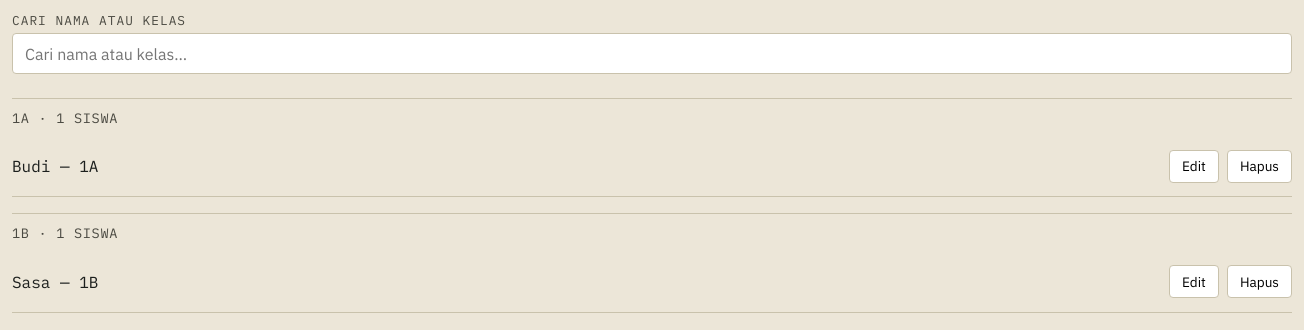
StudentList › requires confirmation before deleting
1A (Budi) group renders first
What coordinates should you click on to do the following:
click the button "Hapus" in the row of "Budi"
I would click on:
 (1259, 166)
Its box is [1227,150,1292,183].
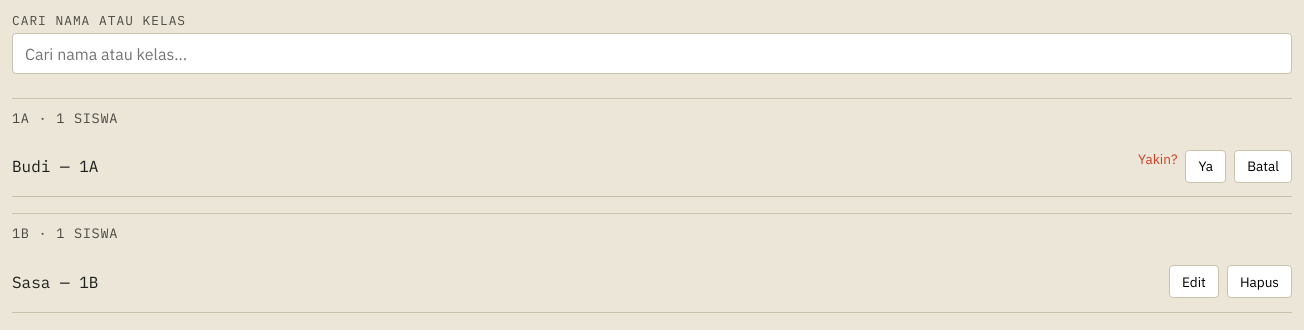
Now the text "Yakin?" is shown, box [1138,150,1178,168]
What coordinates should you click on to do the following:
click the button "Batal"
I would click on:
 (1263, 166)
Its box is [1234,150,1292,183].
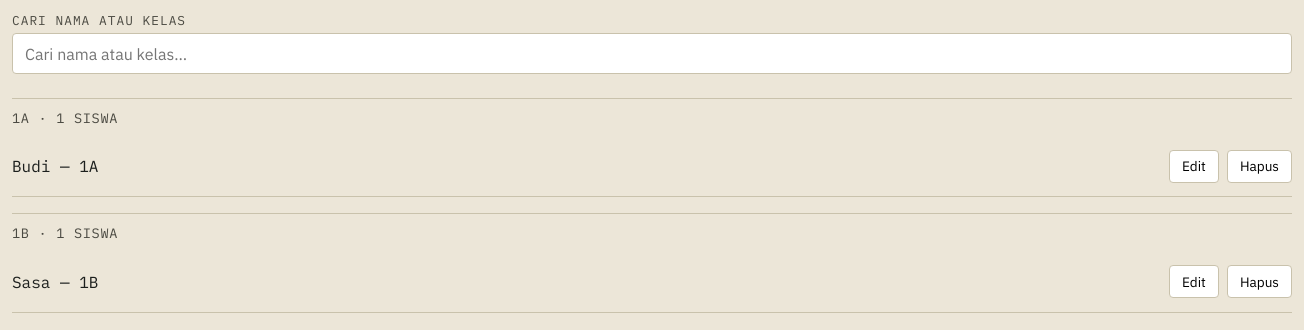
Now the text "Yakin?" is gone
